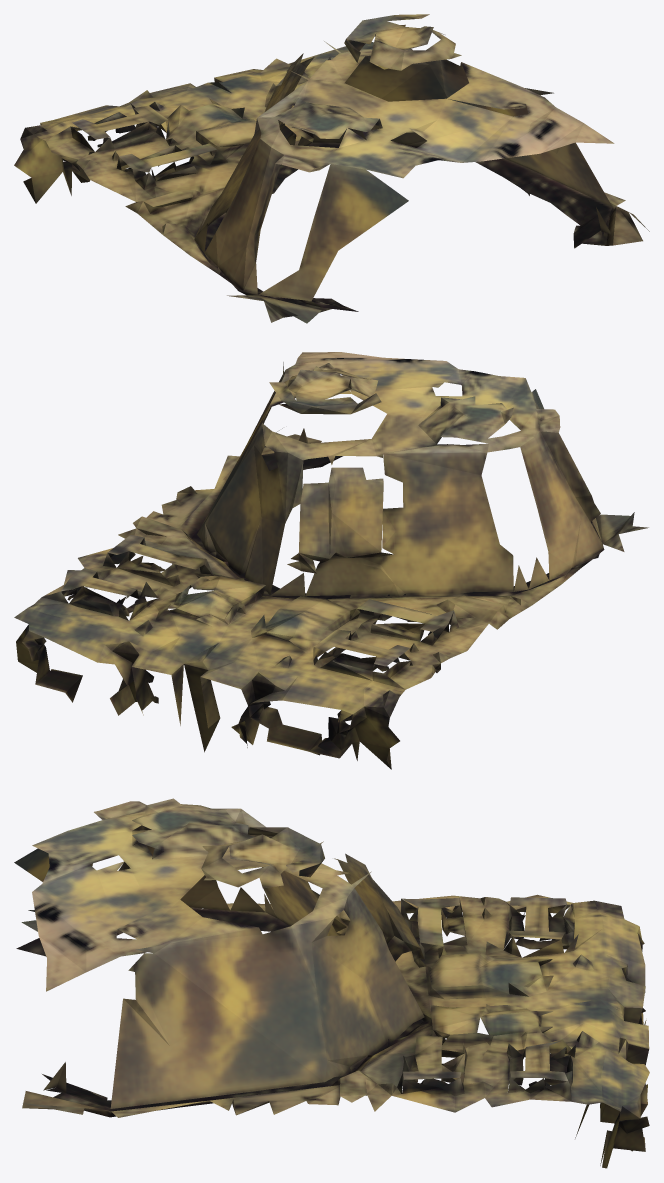
File: panther_turret.glb
3 views of the same model, one above another, from view 1: azimuth 30°, elevation 25°; view 2: azimuth 150°, elevation 25°; view 3: azimuth 270°, elevation 25° (orthographic). The views are drawn at different scales.
Parts seen in each view (by area): view 1: panther_00001_.glb; view 2: panther_00001_.glb; view 3: panther_00001_.glb.
Boxes of the visible parts, x1,y1,x2,y2 form: panther_00001_.glb: (14, 14, 649, 323); panther_00001_.glb: (14, 352, 648, 769); panther_00001_.glb: (14, 798, 649, 1168).
Size of the model in its own units: 3.58 by 2.29 by 4.34.
1 material, 1 textured.
